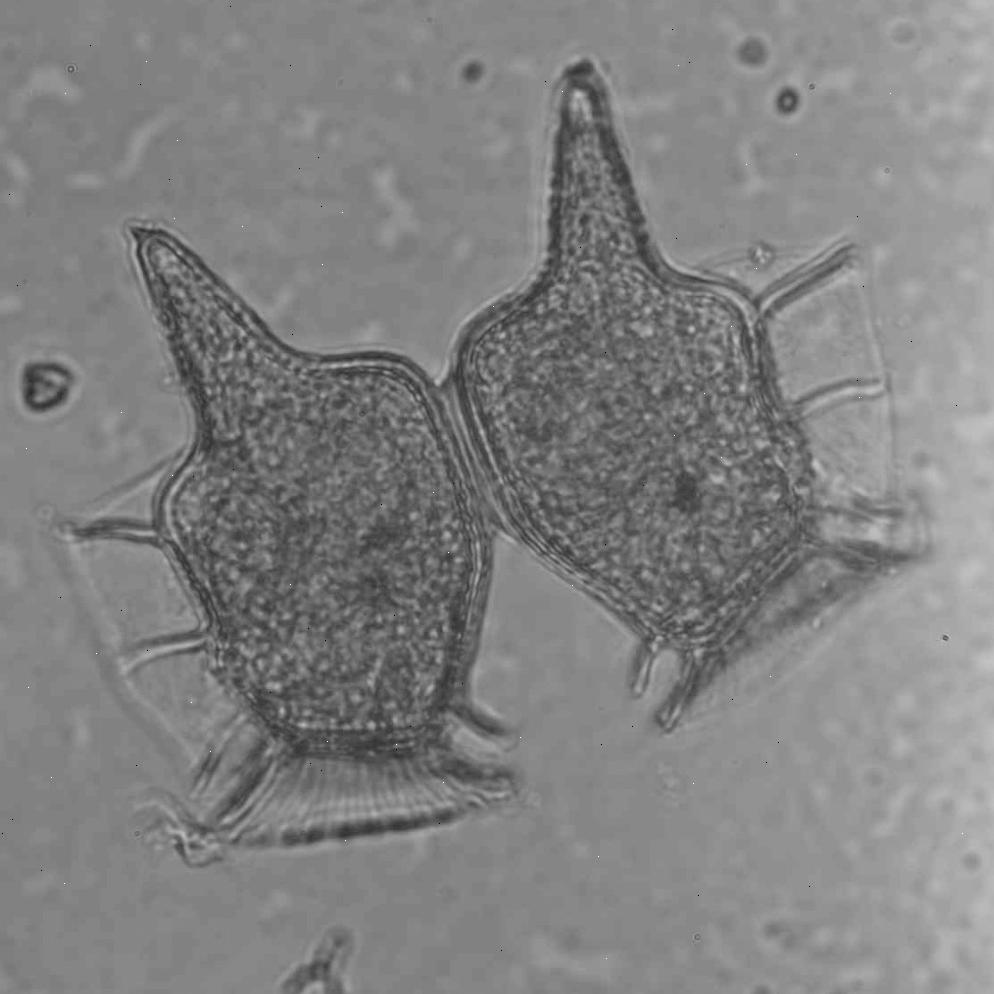dinophysis_caudata: (457, 55, 931, 734), (33, 226, 526, 848)
